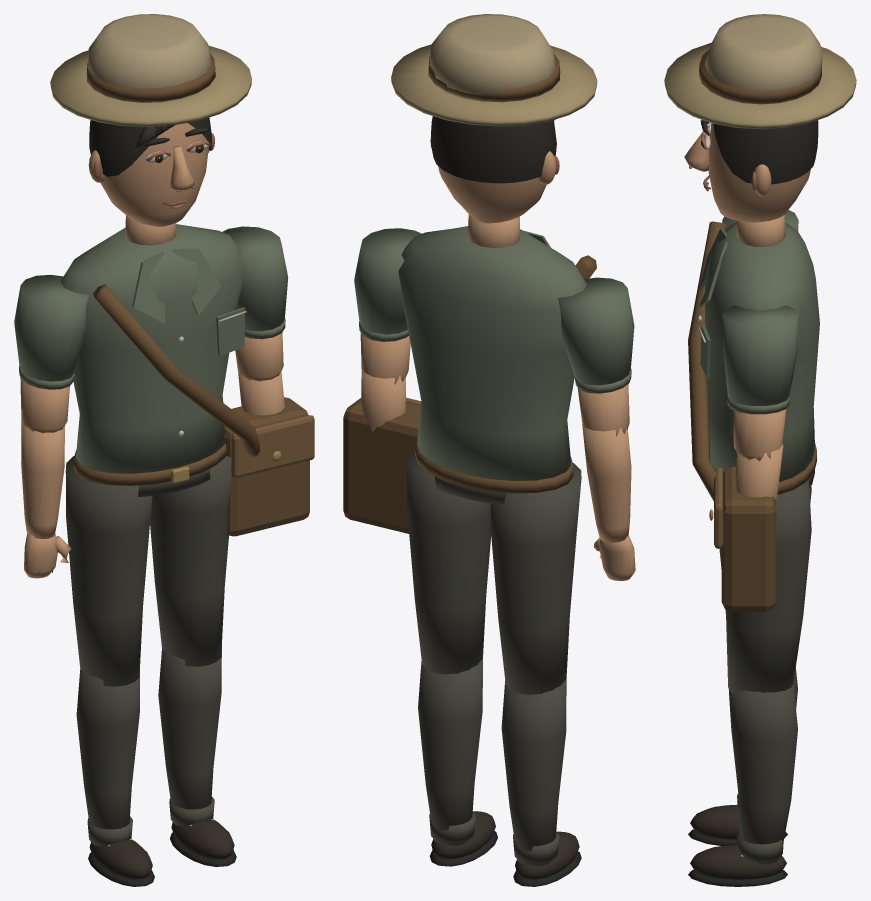
File: player.glb
3 renders of one model, left to right at view 1: azimuth 30°, elevation 25°; view 2: azimuth 150°, elevation 25°; view 3: azimuth 270°, elevation 25°, orthographic. The views are drawn at different scales.
Visible parts, largest first — view 1: body_mesh, head_mesh, legL_mesh, legR_mesh, shinR_mesh, shinL_mesh, armL_mesh, armR_mesh, forearmL_mesh, forearmR_mesh; view 2: body_mesh, head_mesh, legL_mesh, legR_mesh, shinL_mesh, shinR_mesh, armL_mesh, armR_mesh, forearmL_mesh, forearmR_mesh; view 3: body_mesh, head_mesh, shinR_mesh, legR_mesh, armR_mesh, shinL_mesh, forearmR_mesh.
Boxes of the visible parts, x1,y1,x2,y2 form: body_mesh: [60, 215, 314, 536]; head_mesh: [50, 14, 251, 227]; legL_mesh: [65, 456, 152, 686]; legR_mesh: [150, 456, 231, 666]; shinR_mesh: [158, 646, 236, 866]; shinL_mesh: [76, 668, 154, 886]; armL_mesh: [14, 274, 88, 433]; armR_mesh: [222, 226, 288, 381]; forearmL_mesh: [21, 418, 71, 578]; forearmR_mesh: [238, 367, 284, 415]; body_mesh: [343, 214, 596, 533]; head_mesh: [391, 14, 597, 223]; legL_mesh: [490, 463, 581, 694]; legR_mesh: [407, 453, 491, 674]; shinL_mesh: [501, 679, 581, 886]; shinR_mesh: [418, 659, 497, 866]; armL_mesh: [558, 277, 634, 436]; armR_mesh: [354, 228, 421, 384]; forearmL_mesh: [582, 424, 635, 580]; forearmR_mesh: [361, 368, 405, 432]; body_mesh: [688, 215, 819, 611]; head_mesh: [664, 14, 856, 222]; shinR_mesh: [688, 684, 797, 886]; legR_mesh: [719, 480, 811, 695]; armR_mesh: [722, 305, 798, 461]; shinL_mesh: [688, 667, 797, 845]; forearmR_mesh: [735, 444, 783, 503].
Size of the model in its own units: 0.6072 by 1.73 by 0.3638.
